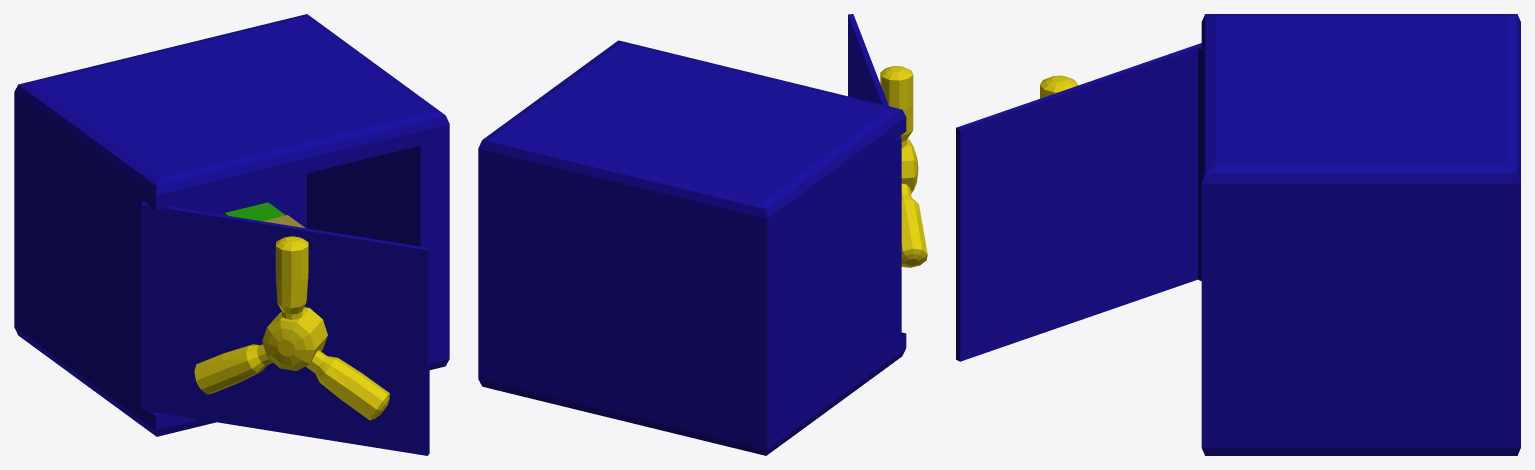
File: Cajafuerte_Dinero.fbx
The picture shows the model from 3 angles, left to right: view 1: azimuth 30°, elevation 25°; view 2: azimuth 150°, elevation 25°; view 3: azimuth 270°, elevation 25°; orthographic projection. The views are drawn at different scales.
Visible parts, largest first — view 1: Box001, Object001, Cylinder001, Box032; view 2: Box001, Object001, Cylinder001; view 3: Box001, Object001, Cylinder001.
Part boxes in pixels (bbox=[...]): Box001: bbox=[14, 14, 449, 436]; Object001: bbox=[141, 202, 429, 455]; Cylinder001: bbox=[194, 236, 389, 420]; Box032: bbox=[225, 202, 304, 227]; Box001: bbox=[478, 40, 906, 455]; Object001: bbox=[848, 14, 901, 342]; Cylinder001: bbox=[880, 66, 927, 267]; Box001: bbox=[1201, 14, 1520, 455]; Object001: bbox=[956, 43, 1201, 361]; Cylinder001: bbox=[1040, 75, 1077, 98].
Bounding box in the file's own units: 60.99 × 50 × 88.49.
